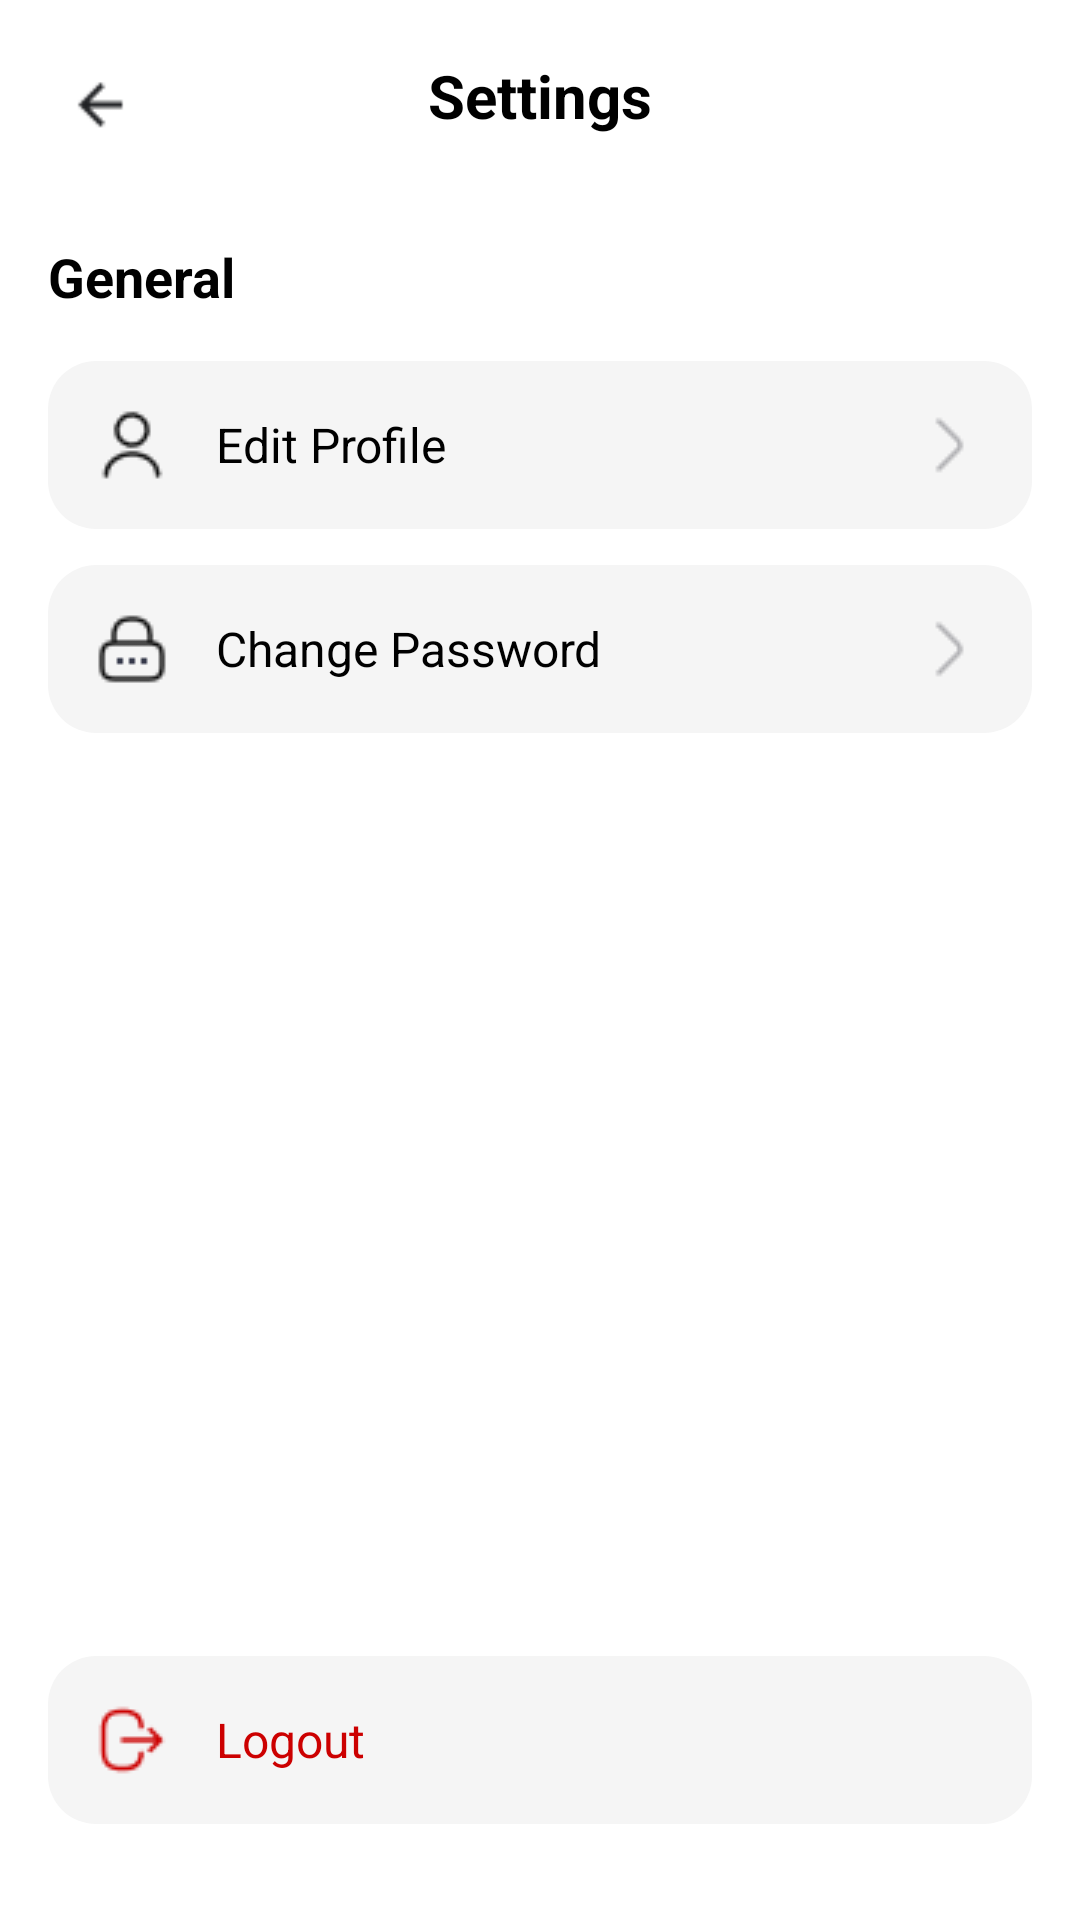

Point at icon controls on the screen. Image size 1080×1920, points as (x,y).
arrow back: (100,105)
arrow forward: (949,445), (949,649)
lock: (132,649)
user: (132,445)
